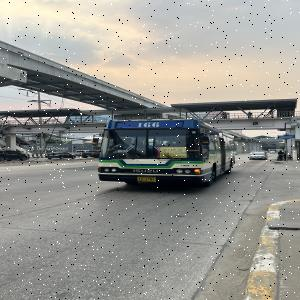BMTA-bus: (97, 119, 237, 187)
Bus Line Number: (134, 122, 162, 128)
Bus Side Number: (177, 163, 193, 168)
Destination Sign: (160, 147, 188, 158)
